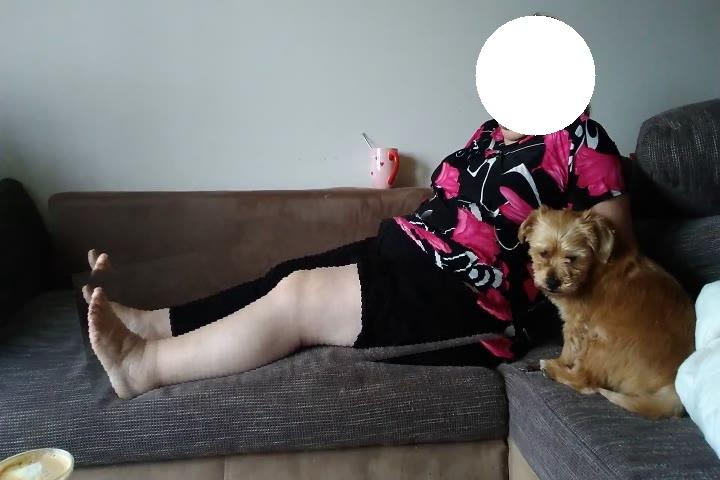lowerbody: (77, 219, 512, 393)
